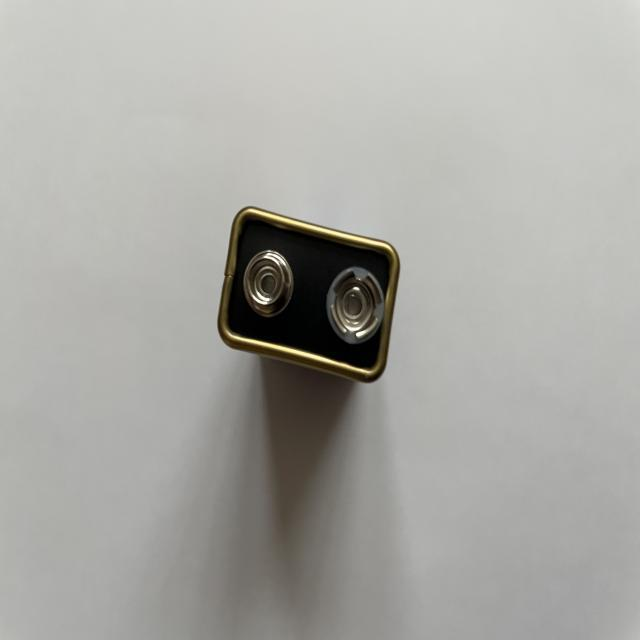9V: (217, 206, 404, 385)
